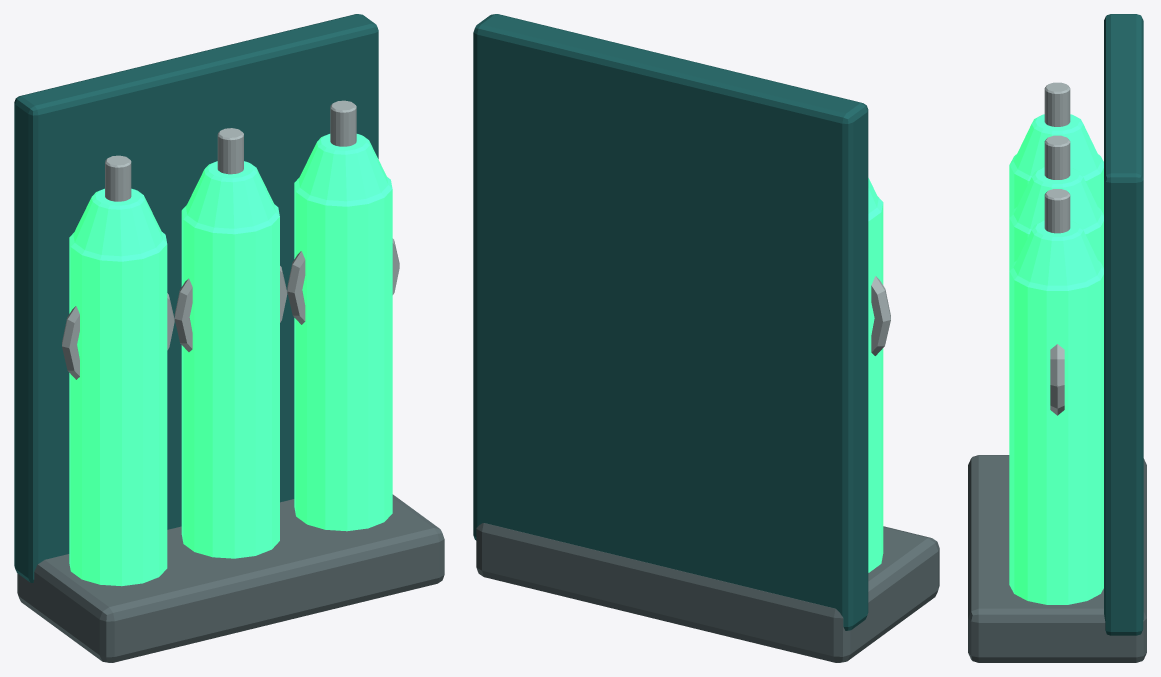
The model's file is MH11_Oxygen_Cylinder_Rack.glb.
The picture shows the model from 3 angles, left to right: view 1: azimuth 30°, elevation 25°; view 2: azimuth 150°, elevation 25°; view 3: azimuth 270°, elevation 25°; orthographic projection. The views are drawn at different scales.
Visible parts, largest first — view 1: Rack_Back, Rack_Base, Cylinder_01, Cylinder_03, Cylinder_02, Cylinder_03_Shoulder, Cylinder_01_Shoulder, Cylinder_02_Shoulder, Cylinder_03_Clamp, Cylinder_01_Clamp, Cylinder_02_Clamp, Cylinder_03_Valve (+2 smaller); view 2: Rack_Back, Rack_Base, Cylinder_01, Cylinder_01_Clamp; view 3: Cylinder_03, Rack_Back, Rack_Base, Cylinder_03_Shoulder, Cylinder_01_Shoulder, Cylinder_02_Shoulder, Cylinder_01, Cylinder_02, Cylinder_02_Valve, Cylinder_01_Valve, Cylinder_03_Valve, Cylinder_03_Clamp.
Boxes of the visible parts, x1,y1,x2,y2 form: Rack_Back: (14,14,378,582); Rack_Base: (17,494,444,662); Cylinder_01: (69,232,167,586); Cylinder_03: (294,177,392,531); Cylinder_02: (181,204,279,558); Cylinder_03_Shoulder: (298,134,388,201); Cylinder_01_Shoulder: (73,188,162,256); Cylinder_02_Shoulder: (186,161,275,228); Cylinder_03_Clamp: (287,238,399,324); Cylinder_01_Clamp: (62,293,174,379); Cylinder_02_Clamp: (174,266,287,351); Cylinder_03_Valve: (330,100,356,146); Rack_Back: (473,14,868,630); Rack_Base: (476,523,939,662); Cylinder_01: (868,197,883,572); Cylinder_01_Clamp: (871,276,890,355); Cylinder_03: (1009,260,1103,604); Rack_Back: (1104,14,1143,635); Rack_Base: (968,455,1146,662); Cylinder_03_Shoulder: (1013,220,1101,285); Cylinder_01_Shoulder: (1013,114,1101,175); Cylinder_02_Shoulder: (1013,167,1101,229); Cylinder_01: (1009,154,1103,217); Cylinder_02: (1009,207,1103,270); Cylinder_02_Valve: (1044,135,1070,179); Cylinder_01_Valve: (1044,82,1070,126); Cylinder_03_Valve: (1044,189,1070,233); Cylinder_03_Clamp: (1050,344,1064,415).
Bounding box in the file's own units: 1.18 × 1.64 × 0.54.
